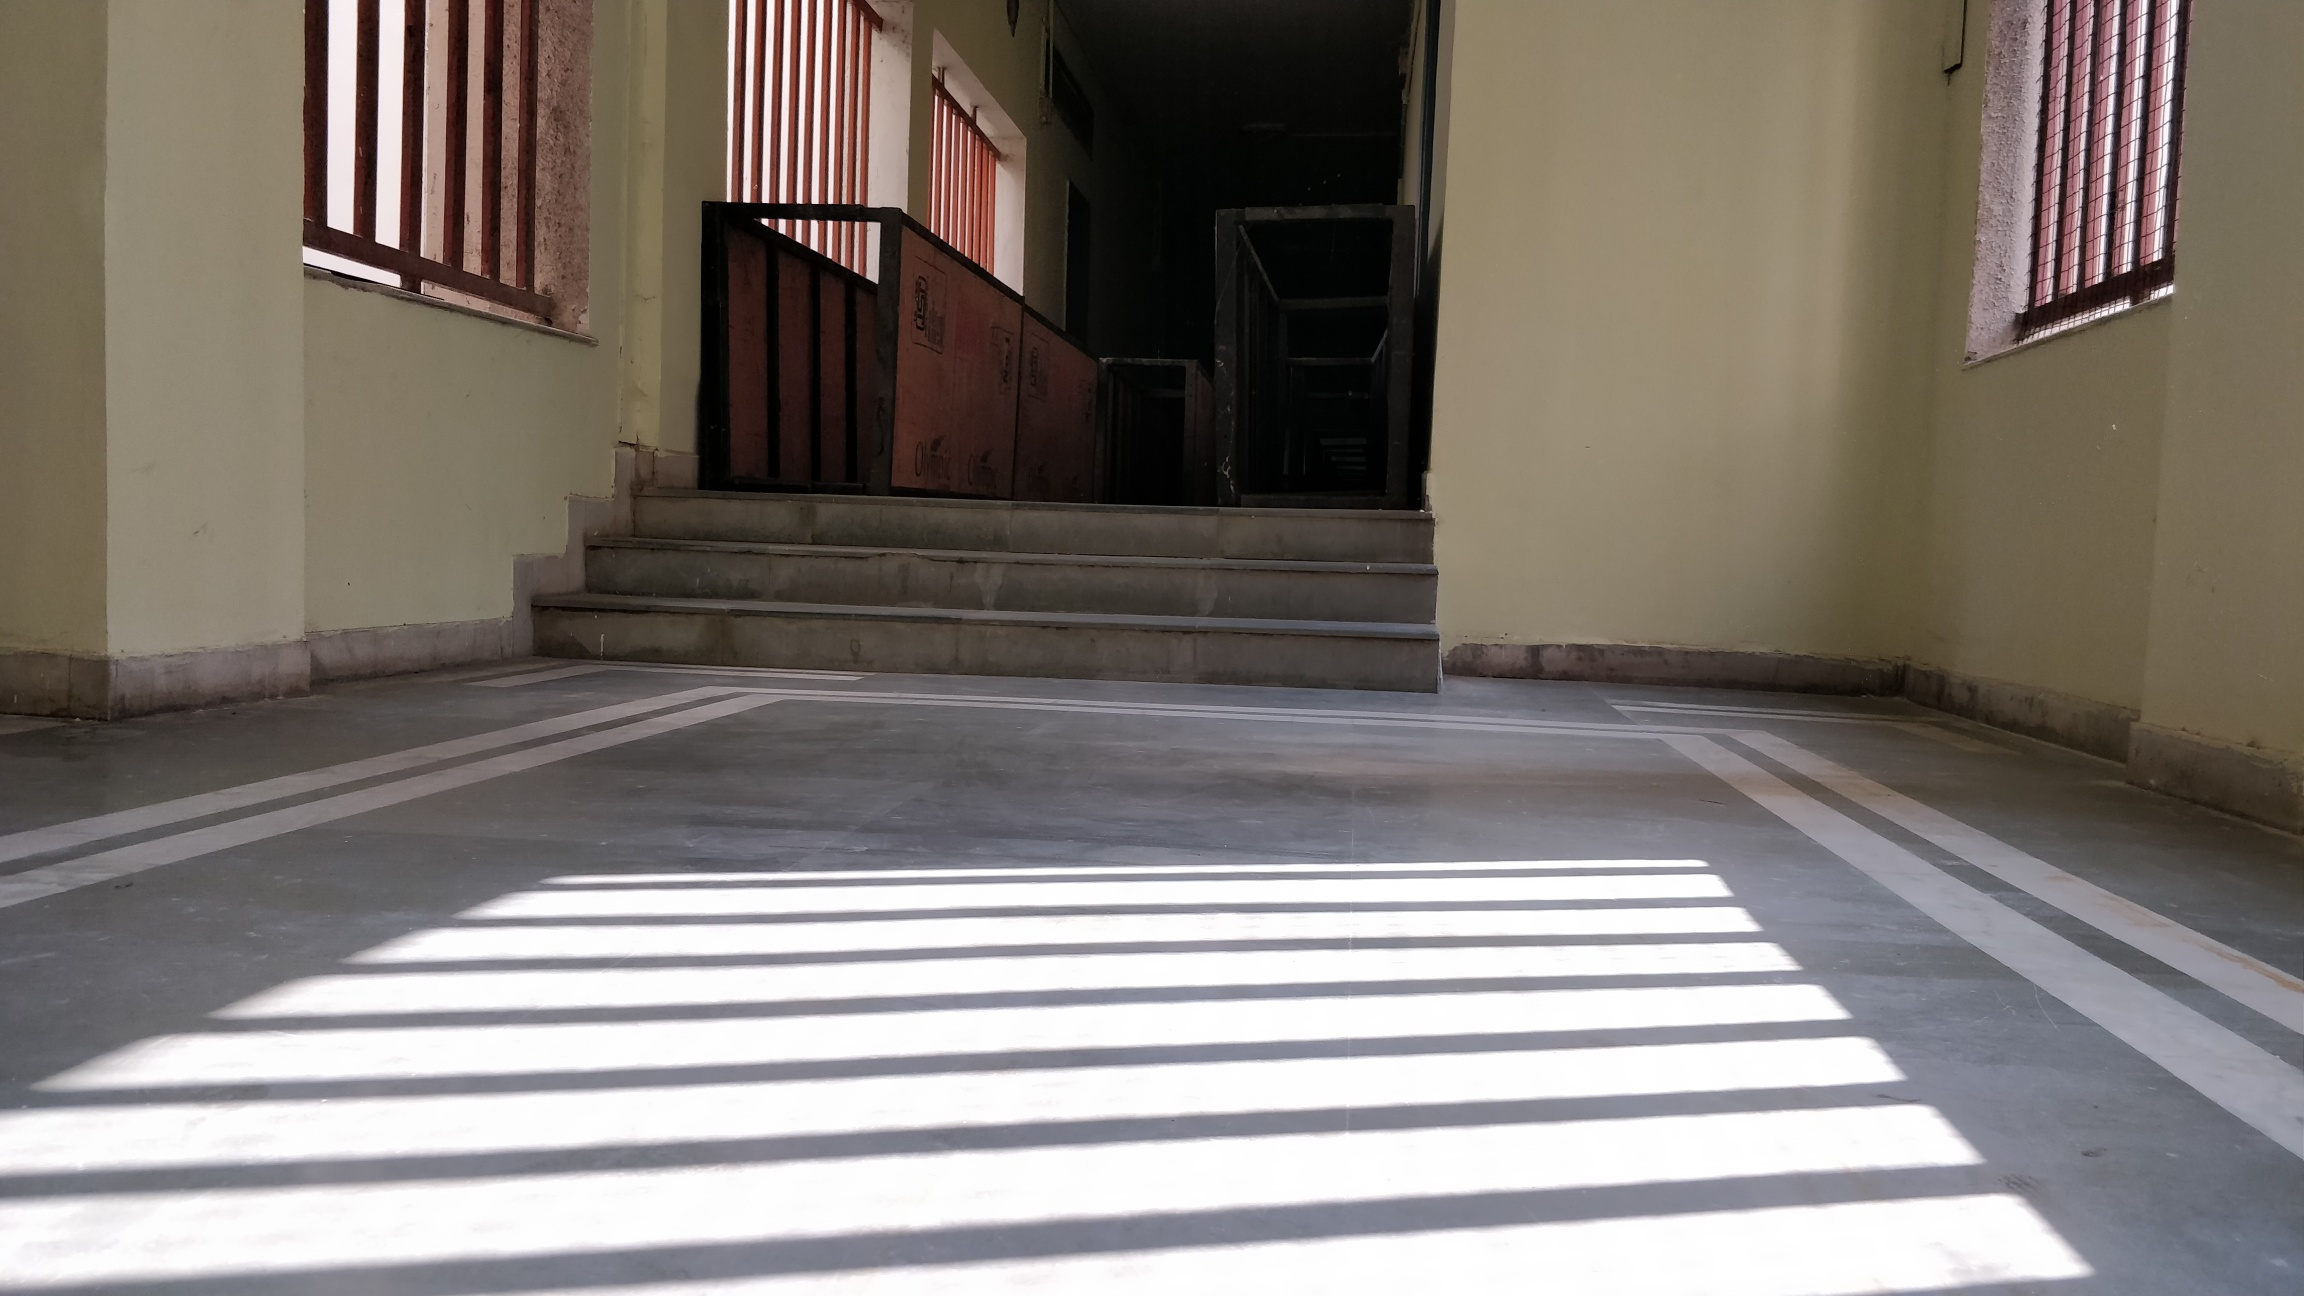stairs_up: (552, 494, 1431, 668)
